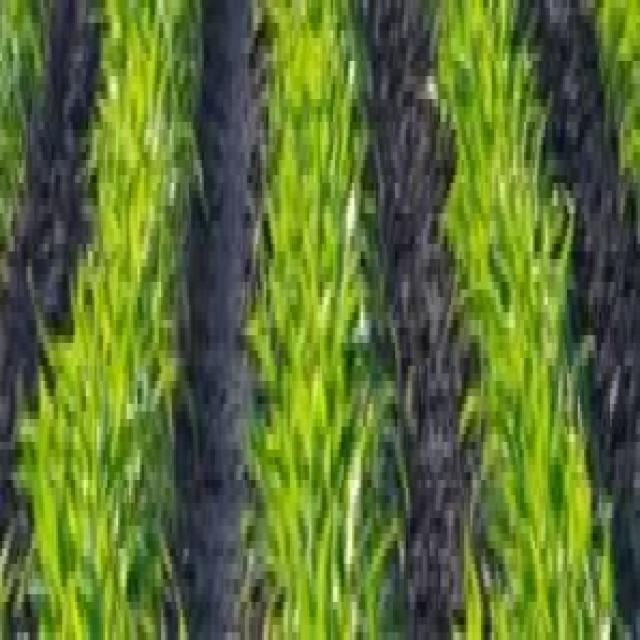row: (357, 0, 487, 640), (521, 0, 640, 640), (0, 0, 102, 640), (164, 0, 266, 640)
